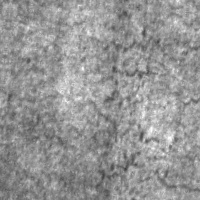crazing: (89, 110, 199, 199), (95, 21, 199, 111)
